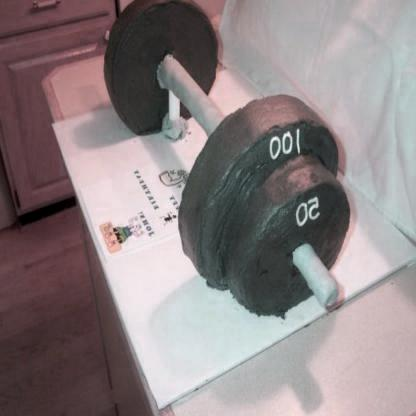Barbell: (316, 276, 342, 319)
